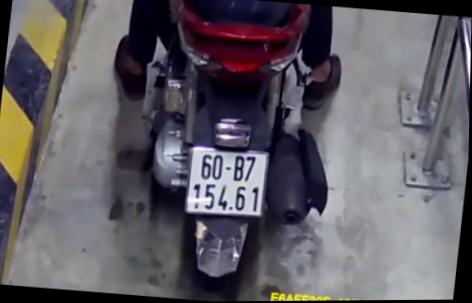LP: (183, 140, 274, 221)
